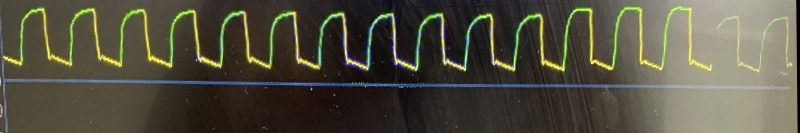normal_pressure: (5, 6, 726, 80)
